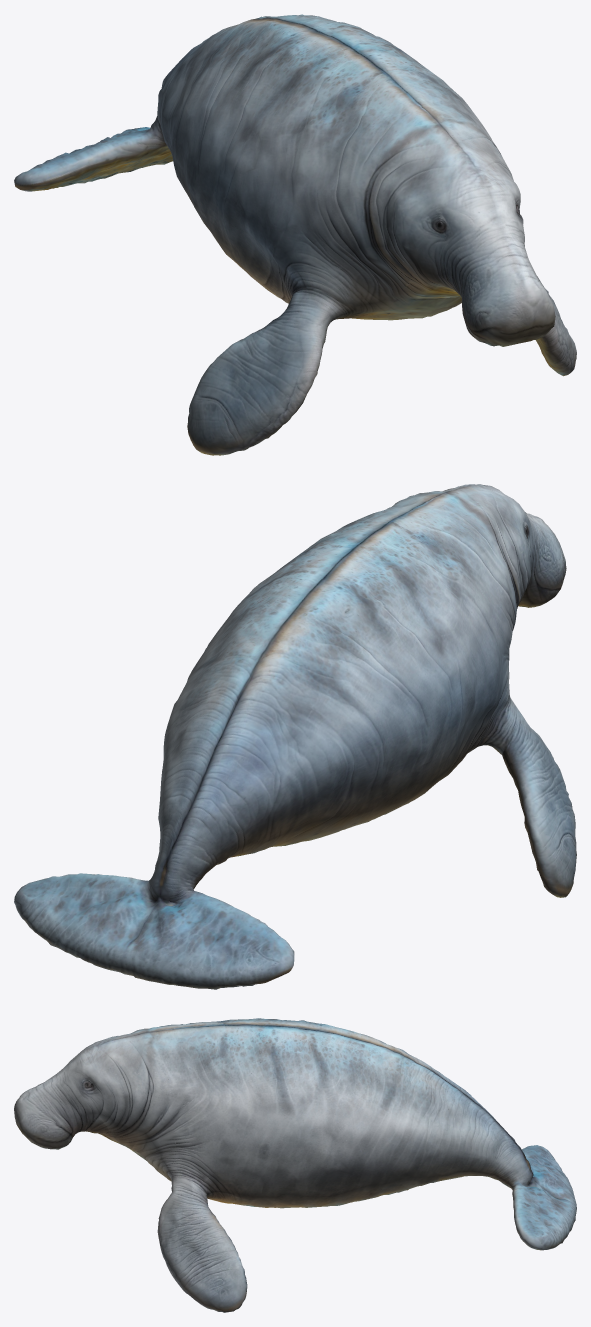
The model's file is 1manateeg-9dfb-45dc-9b23-c1ef800a1142.glb.
3 renders of one model, top to bottom at view 1: azimuth 30°, elevation 25°; view 2: azimuth 150°, elevation 25°; view 3: azimuth 270°, elevation 25°, orthographic. The views are drawn at different scales.
Size of the model in its own units: 0.6192 by 0.5398 by 1.2.
Materials: 1 (1 with a texture image).
